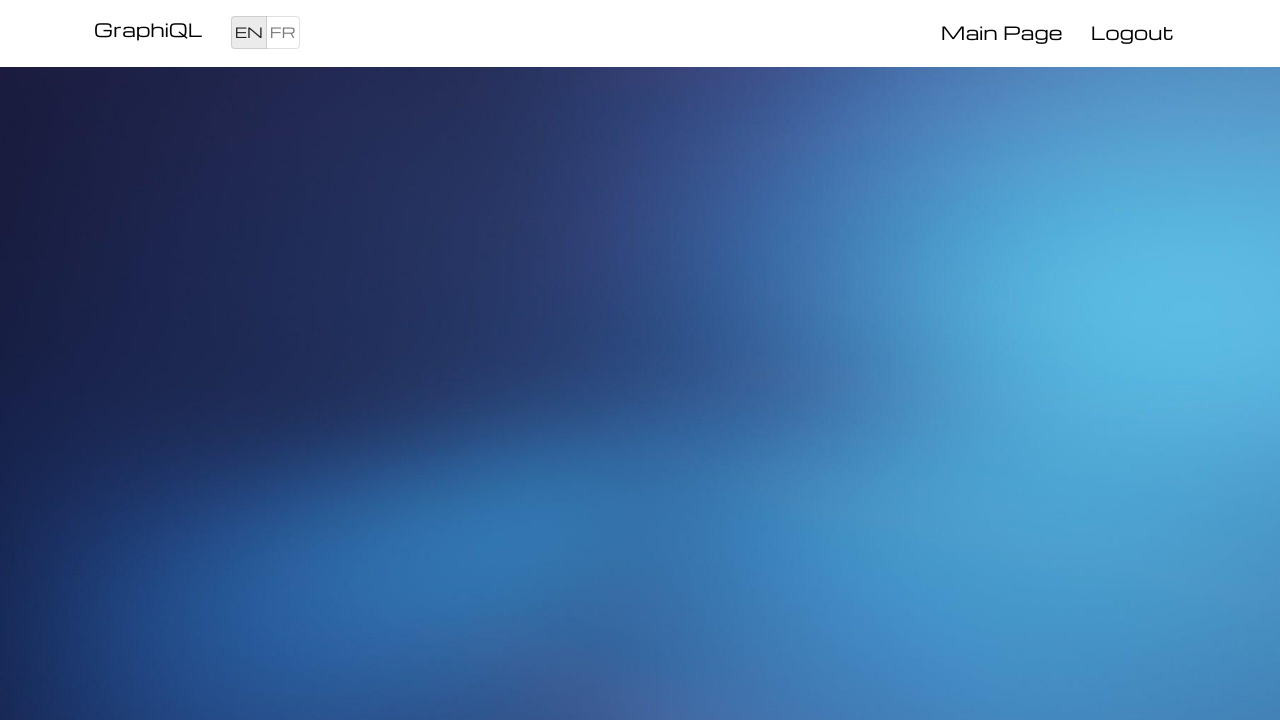
Header › should navigate to Main page on Main Page link click
Click the link "Main Page": (1002, 32) [941,19,1063,46]
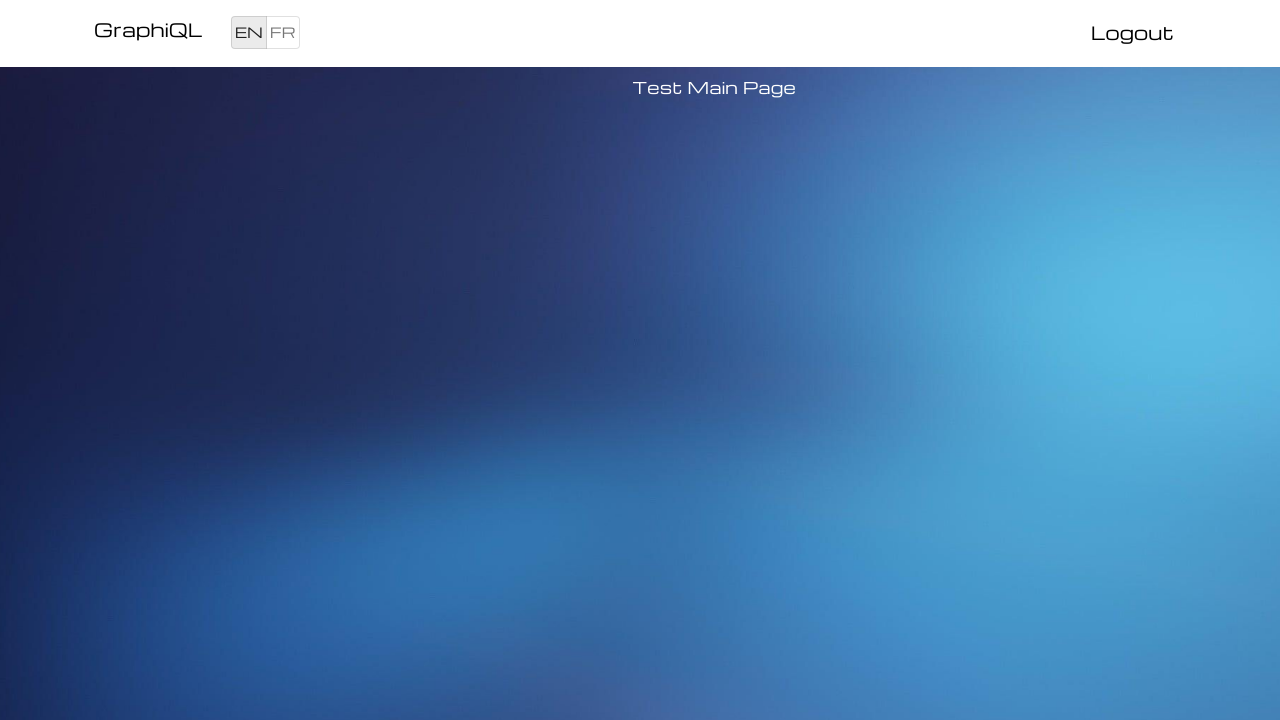
Check: the text "Test Main Page" is shown, box [632,75,796,98]
